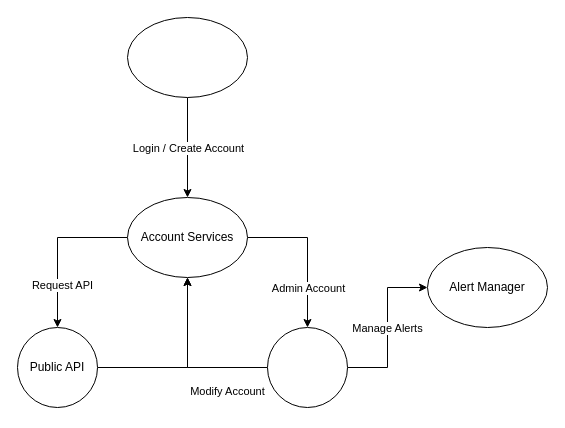
The diagram is 565 pixels wide and 428 high, and some of its shapes have lost their labels. Each missing label, with the centre of its shape:
"Login Page" belongs at (187,57).
"Private Dashboard" belongs at (307,367).
